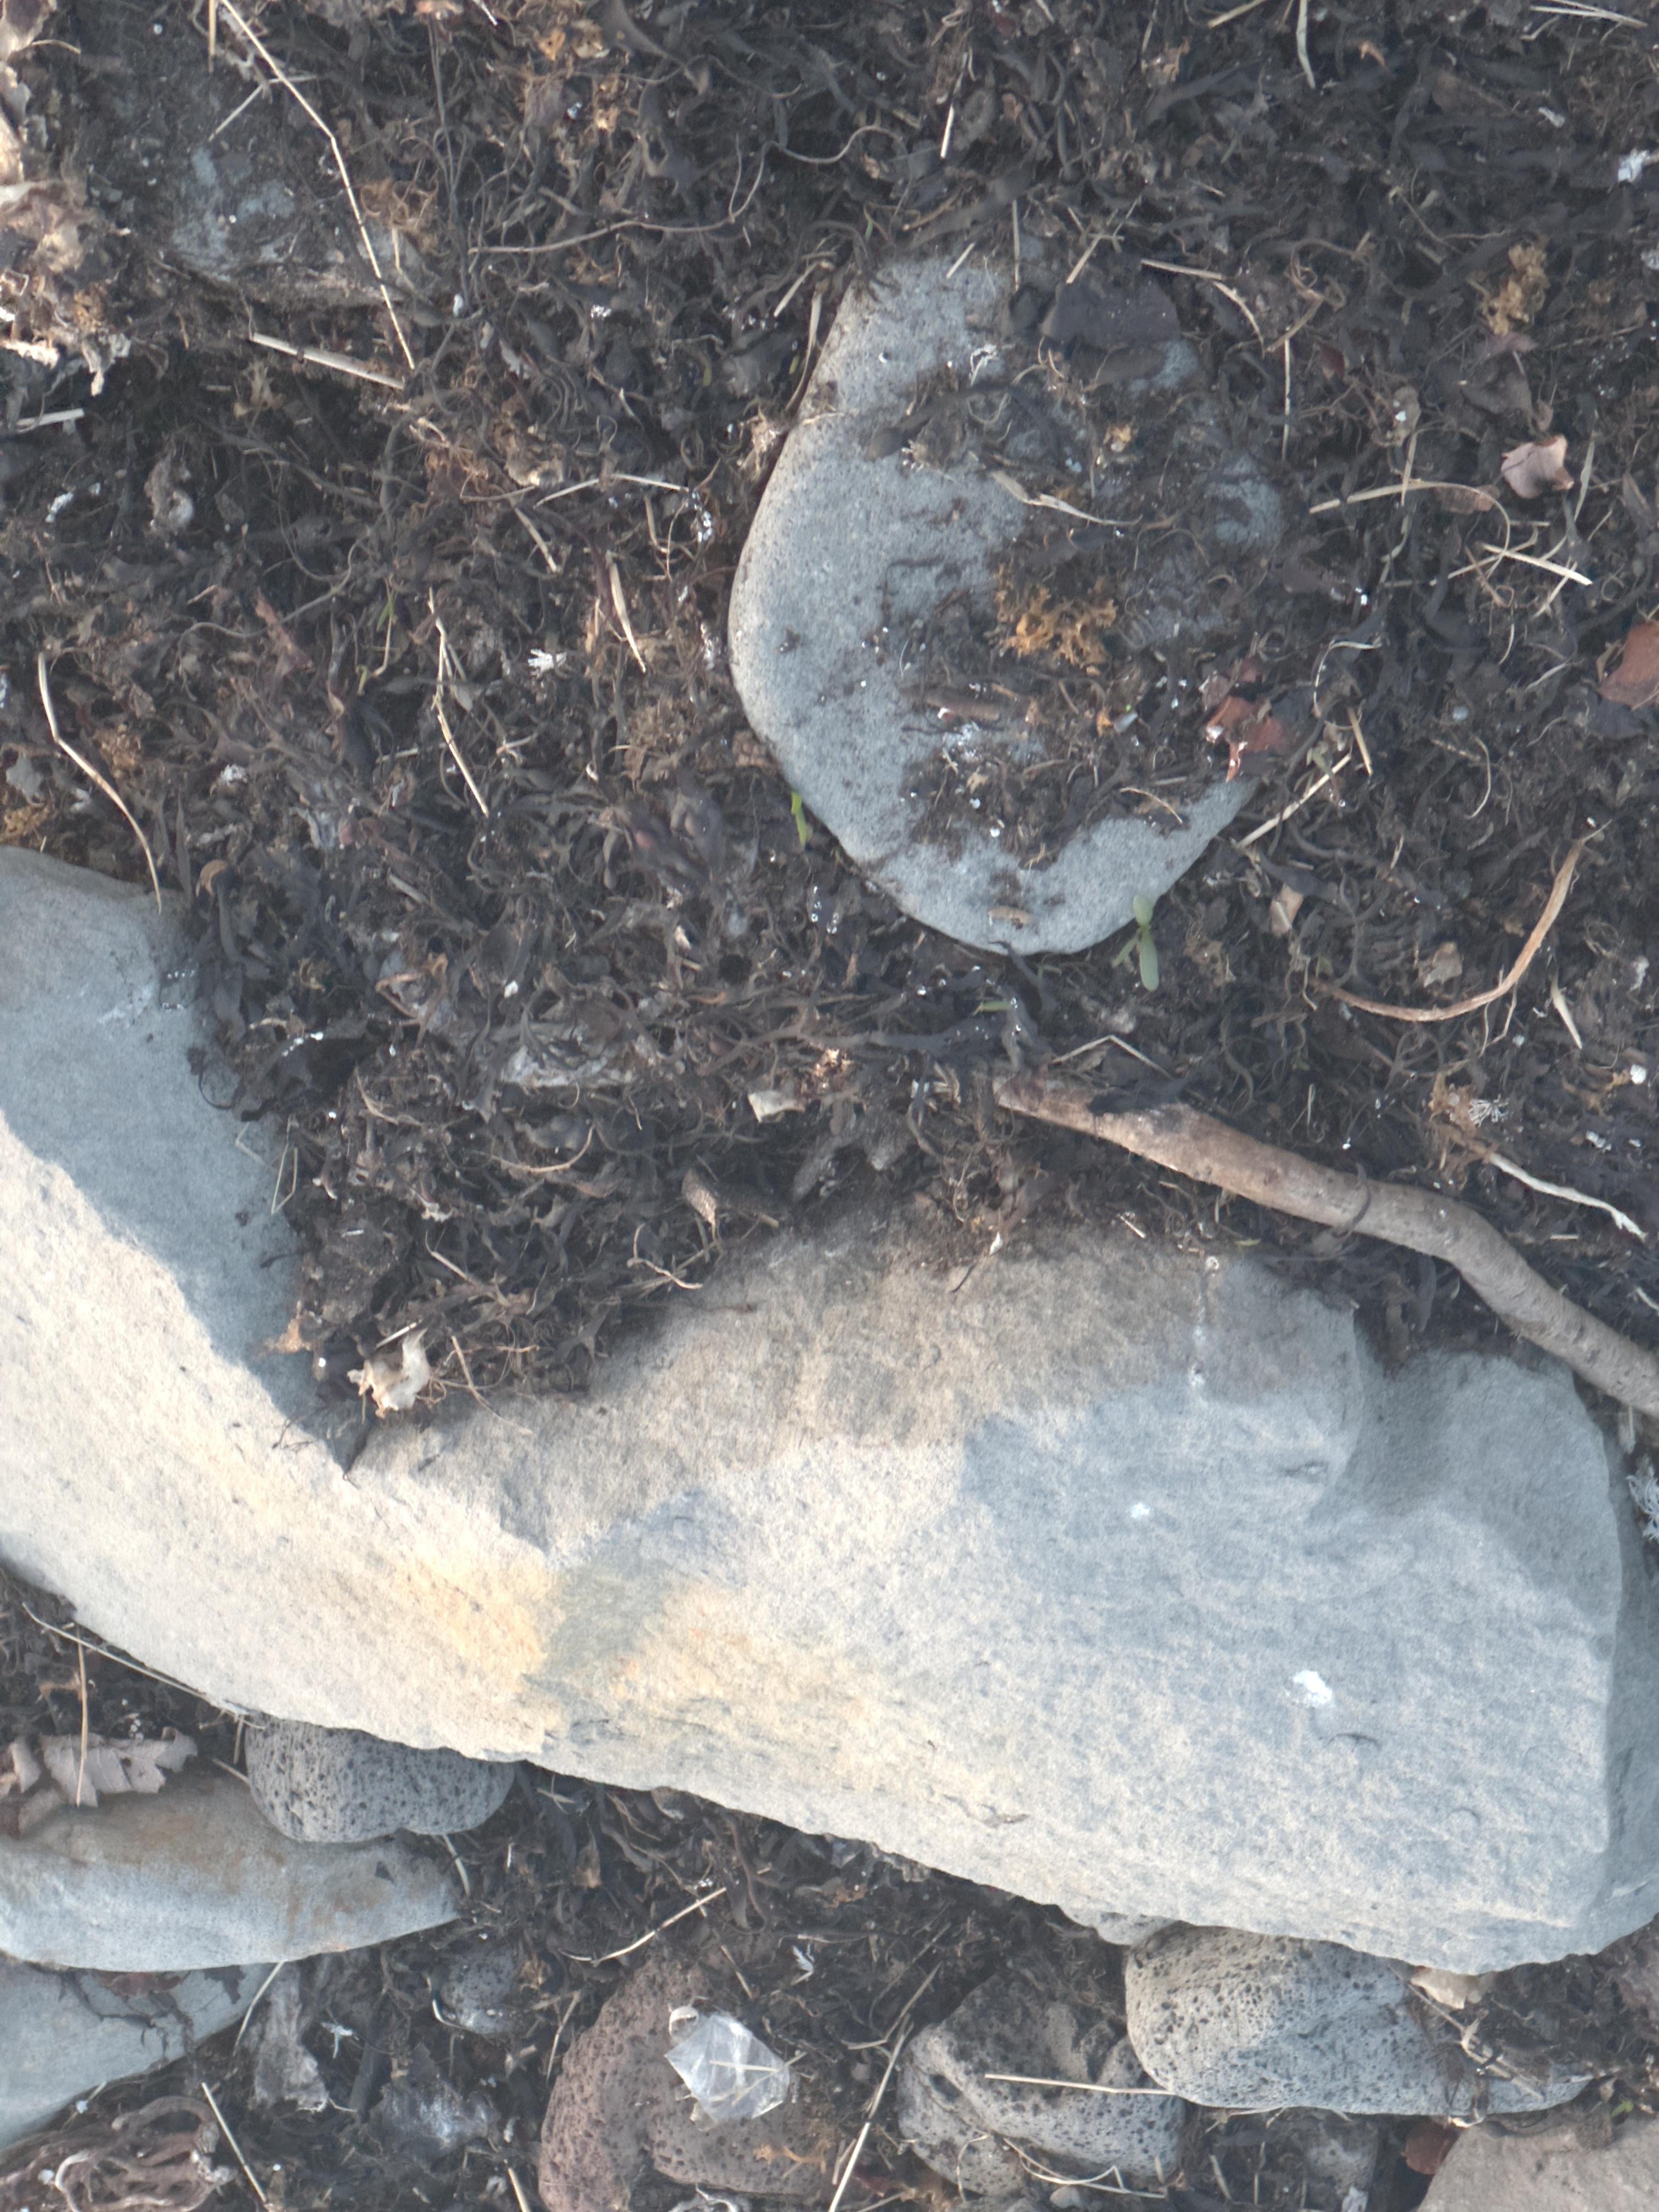trash: (665, 2005, 795, 2121)
